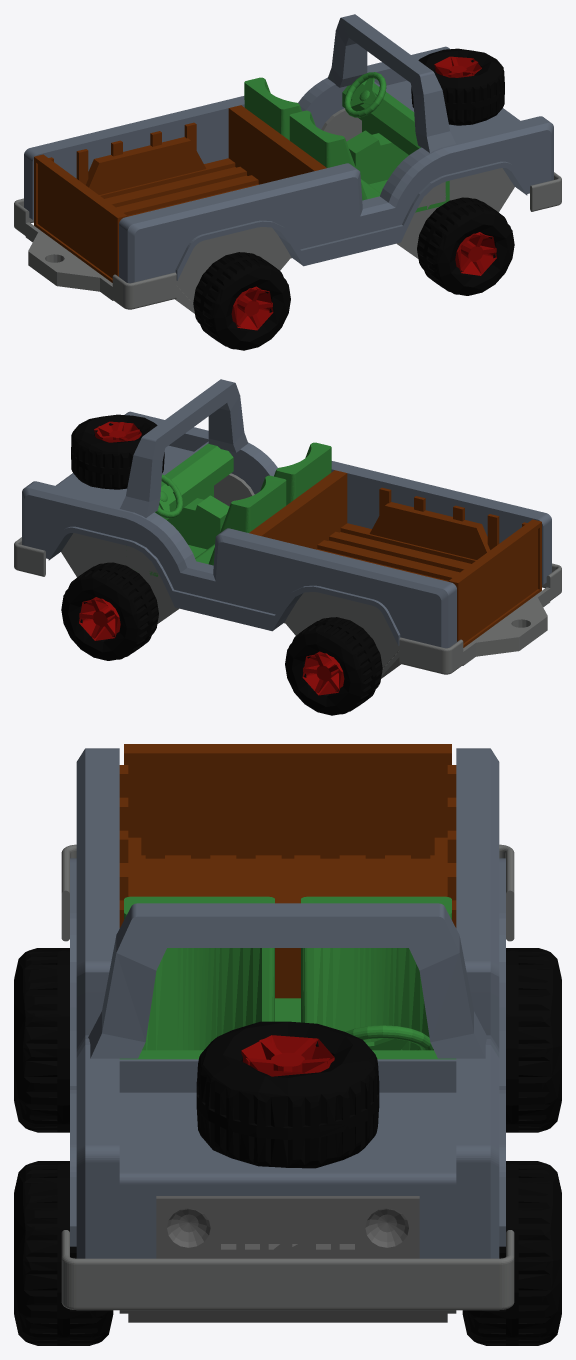
Rendered from cotxe.obj.
3 renders of one model, top to bottom at view 1: azimuth 30°, elevation 25°; view 2: azimuth 150°, elevation 25°; view 3: azimuth 270°, elevation 25°, orthographic. The views are drawn at different scales.
Bounding box in the file's own units: 1.22 × 0.5192 × 0.6352.
